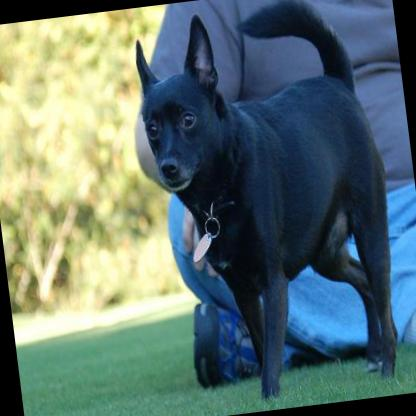schipperke: (128, 0, 406, 406)
